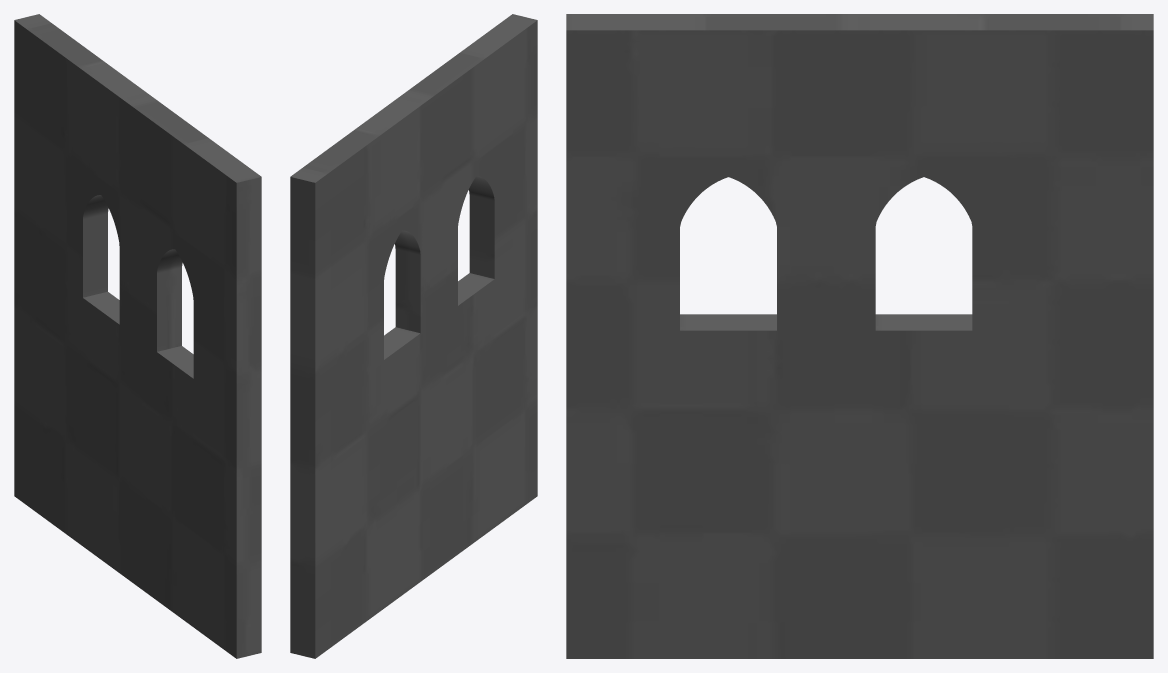
Rendered from SM_QiangTi02_8b2192.glb.
3 renders of one model, left to right at view 1: azimuth 30°, elevation 25°; view 2: azimuth 150°, elevation 25°; view 3: azimuth 270°, elevation 25°, orthographic. The views are drawn at different scales.
Parts seen in each view (by area): view 1: SM_QiangTi02; view 2: SM_QiangTi02; view 3: SM_QiangTi02.
Part boxes in pixels (<box>): SM_QiangTi02: <box>14,14,261,658</box>; SM_QiangTi02: <box>290,14,537,658</box>; SM_QiangTi02: <box>566,14,1153,658</box>.
Size of the model in its own units: 0.3074 by 5.57 by 4.72.
Materials: 1 (1 with a texture image).
